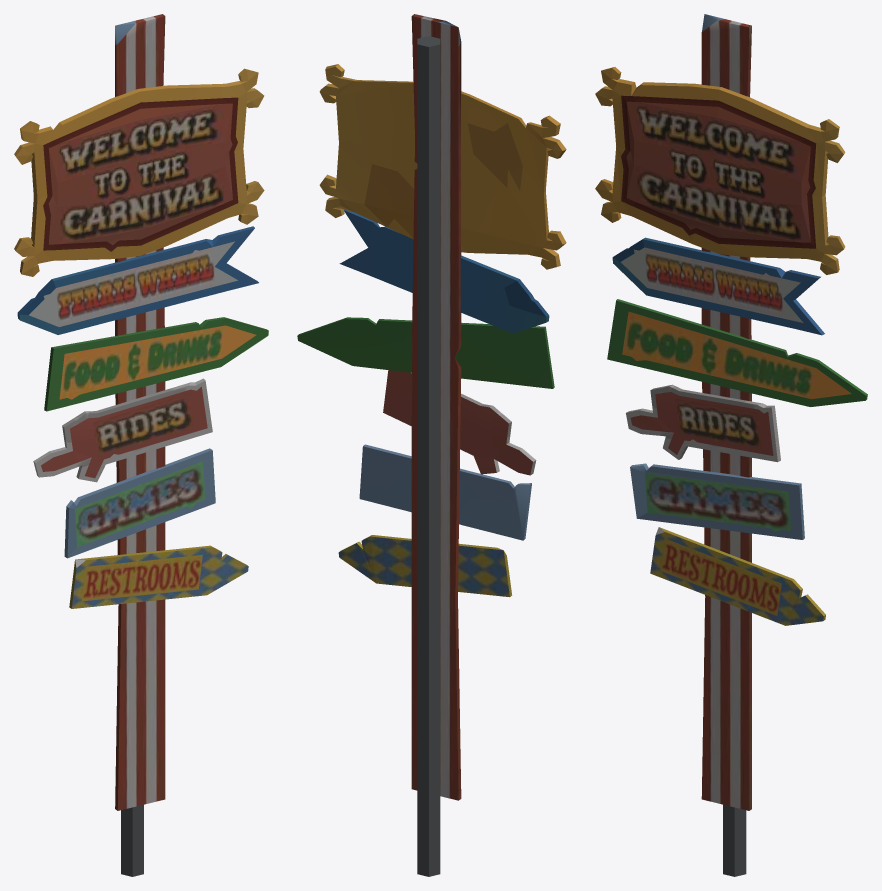
The model's file is SM_Prop_Sign_01.glb.
The picture shows the model from 3 angles, left to right: view 1: azimuth 30°, elevation 25°; view 2: azimuth 150°, elevation 25°; view 3: azimuth 330°, elevation 25°; orthographic projection.
Visible parts, largest first — view 1: SM_Prop_Sign_01; view 2: SM_Prop_Sign_01; view 3: SM_Prop_Sign_01.
Boxes of the visible parts, bbox=[...] form: SM_Prop_Sign_01: bbox=[14, 14, 268, 876]; SM_Prop_Sign_01: bbox=[297, 14, 566, 876]; SM_Prop_Sign_01: bbox=[595, 14, 867, 876].
Size of the model in its own units: 120 by 373 by 21.02.
1 material, 1 textured.
